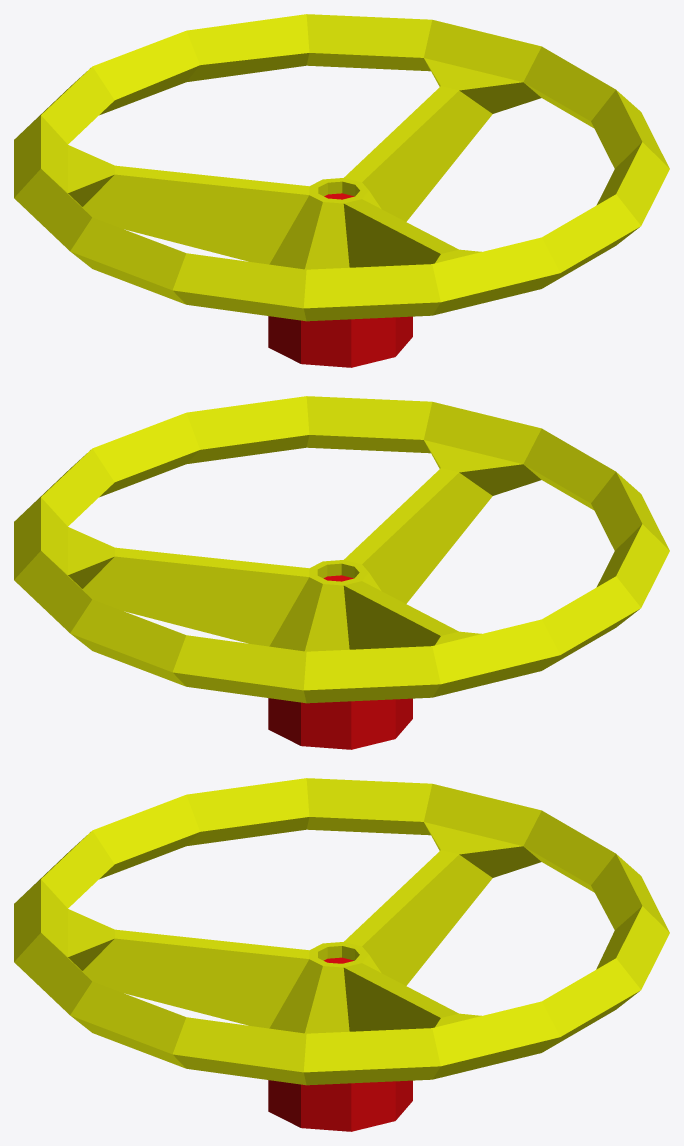
The model's file is zawor.fbx.
The picture shows the model from 3 angles, top to bottom: view 1: azimuth 30°, elevation 25°; view 2: azimuth 150°, elevation 25°; view 3: azimuth 270°, elevation 25°; orthographic projection.
Visible parts, largest first — view 1: Cylinder; view 2: Cylinder; view 3: Cylinder.
Part boxes in pixels (x1,y1,x2,y2): Cylinder: (14,14,669,367); Cylinder: (14,396,669,749); Cylinder: (14,778,669,1131).
Bounding box in the file's own units: 88.29 × 28.78 × 87.81.
